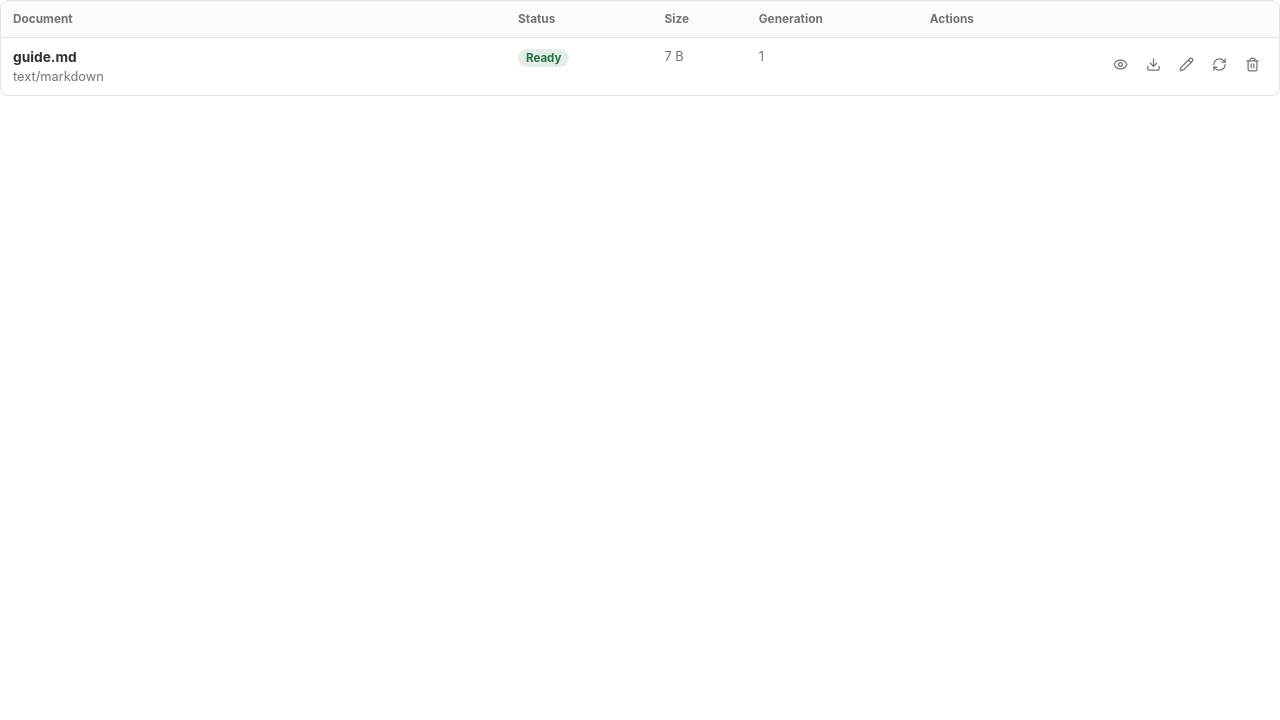
Test case: KnowledgeDocumentTable › renames a document through the rename dialog and shows the updated name
Click the button named "rename guide.md": (1186, 64) [1171,49,1201,79]
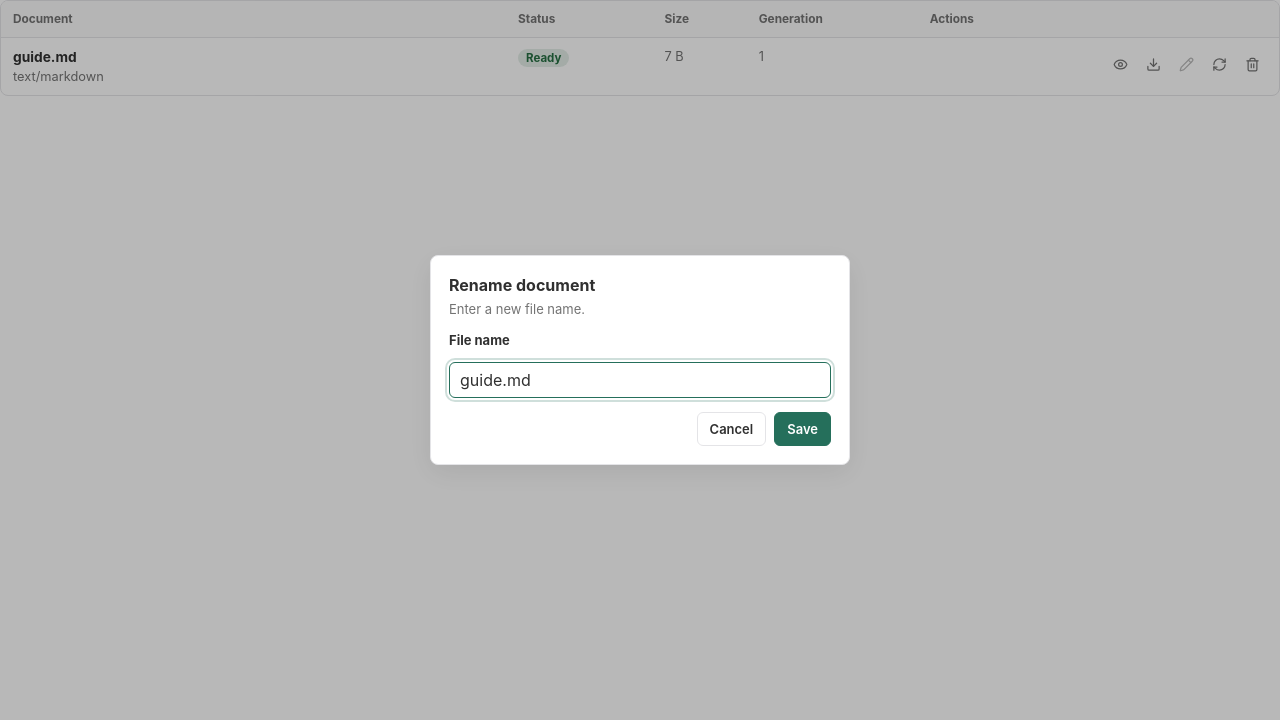
Expected: the field labelled "File name" holds "guide.md"
Replace the text in the field labelled "File name" with "renamed-guide.md": (640, 380) [449,362,831,398]
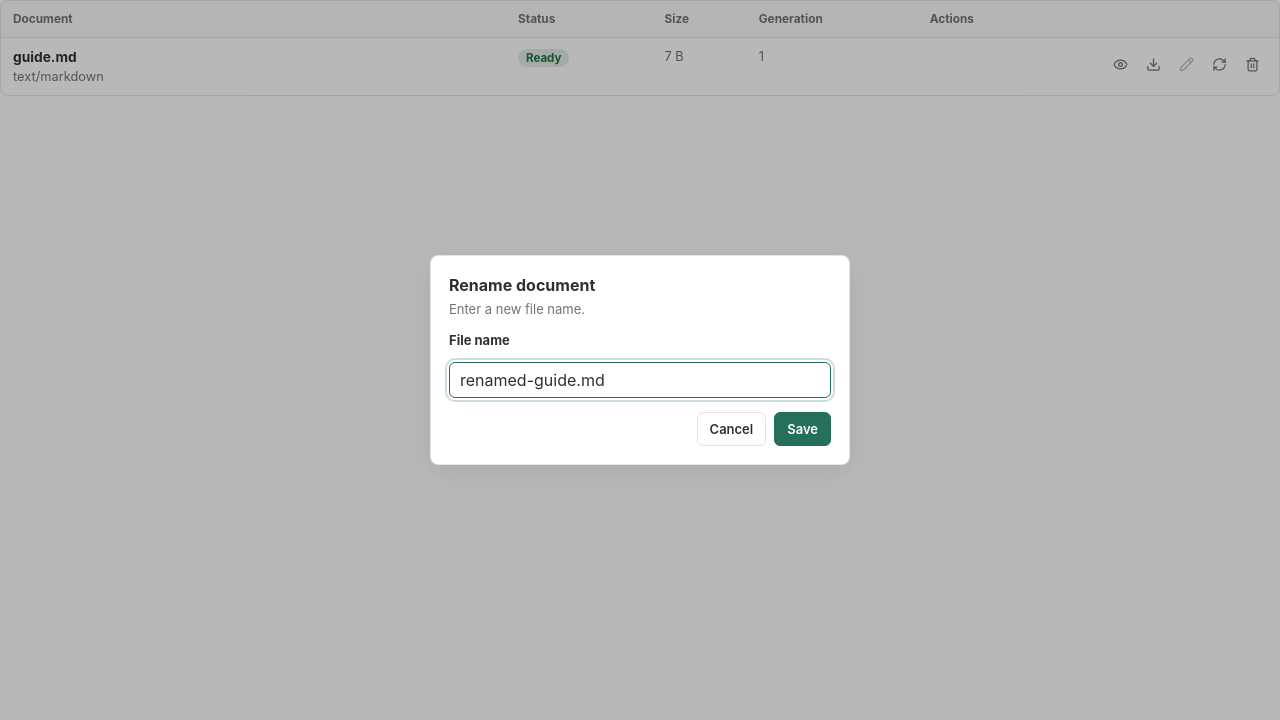
Click the button "Save": (803, 429) [774,412,831,446]
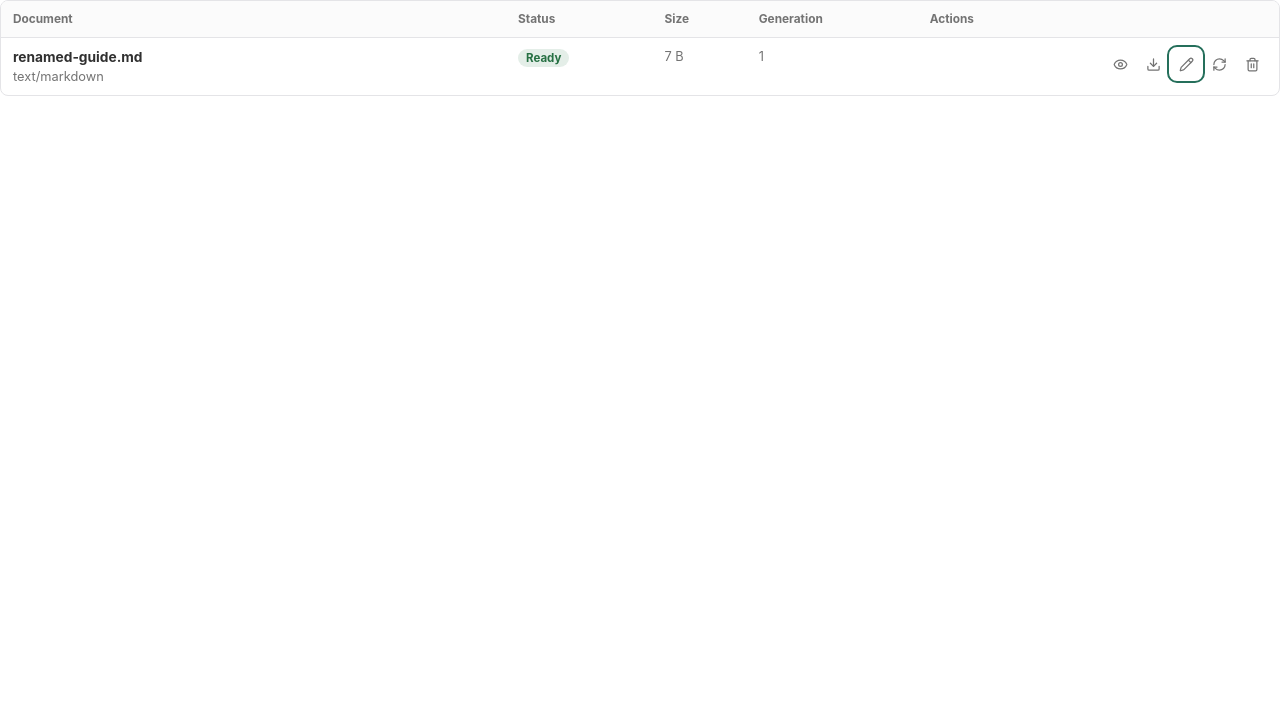
Expected: the dialog is gone
Expected: the button "renamed-guide.md" is shown, [13,49,142,65]
